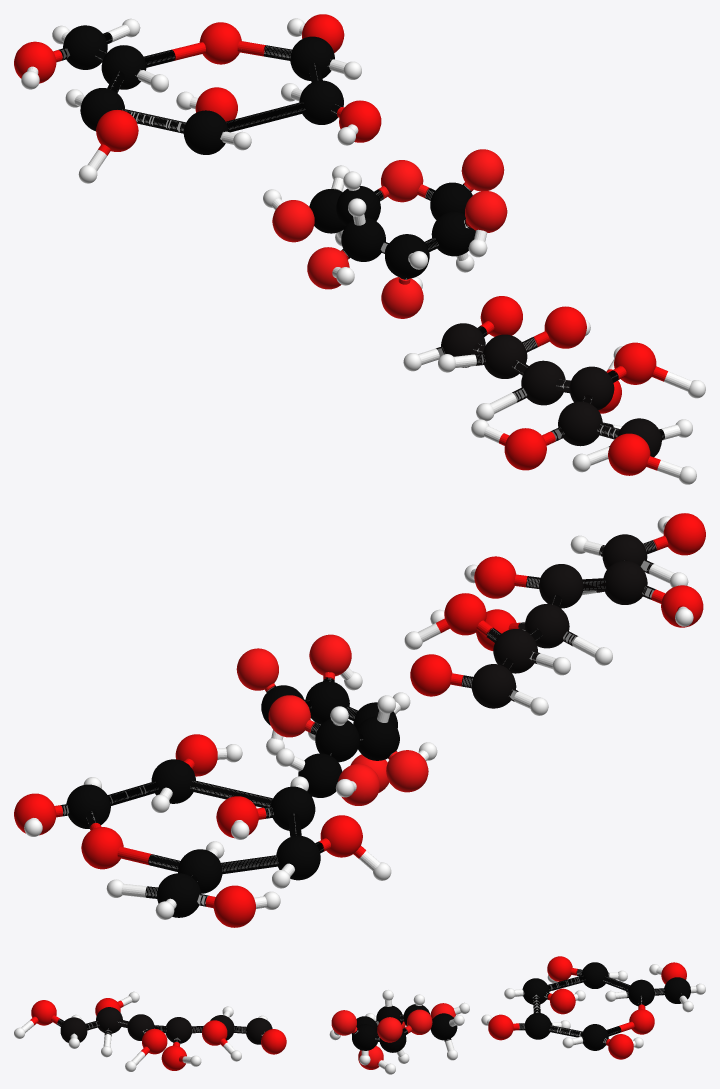
The model's file is glucose_3d_model.glb.
3 views of the same model, one above another, from view 1: azimuth 30°, elevation 25°; view 2: azimuth 150°, elevation 25°; view 3: azimuth 270°, elevation 25° (orthographic). The views are drawn at different scales.
Parts seen in each view (by area): view 1: Object_22, Object_115, Object_64, Object_113, Object_112, Object_25, Object_127, Object_23, Object_31, Object_33, Object_128, Object_124 (+28 smaller); view 2: Object_111, Object_115, Object_114, Object_21, Object_35, Object_80, Object_123, Object_64, Object_33, Object_126, Object_63, Object_128 (+27 smaller); view 3: Object_23, Object_24, Object_113, Object_66, Object_21, Object_62, Object_34, Object_33, Object_81, Object_123, Object_77, Object_78 (+30 smaller).
Part boxes in pixels (box(x1,y1,x2,y2)): Object_22: box(183, 110, 228, 154); Object_115: box(558, 401, 602, 446); Object_64: box(341, 217, 385, 261); Object_113: box(521, 360, 565, 405); Object_112: box(483, 334, 527, 378); Object_25: box(63, 25, 107, 69); Object_127: box(504, 428, 546, 470); Object_23: box(299, 80, 343, 124); Object_31: box(272, 200, 314, 242); Object_33: box(461, 149, 504, 191); Object_128: box(608, 433, 650, 475); Object_124: box(544, 306, 586, 348); Object_111: box(471, 664, 516, 708); Object_115: box(603, 560, 647, 604); Object_114: box(539, 564, 583, 608); Object_21: box(276, 835, 320, 880); Object_35: box(386, 750, 428, 792); Object_80: box(213, 885, 255, 927); Object_123: box(410, 654, 452, 696); Object_64: box(357, 716, 399, 760); Object_33: box(236, 648, 278, 690); Object_126: box(474, 556, 516, 598); Object_63: box(315, 719, 359, 762); Object_128: box(663, 513, 705, 555); Object_23: box(525, 1012, 551, 1039); Object_24: box(581, 1024, 608, 1050); Object_113: box(165, 1017, 192, 1043); Object_66: box(352, 1024, 377, 1050); Object_21: box(581, 962, 608, 988); Object_62: box(430, 1013, 457, 1040); Object_34: box(331, 1010, 356, 1035); Object_33: box(377, 1017, 402, 1042); Object_81: box(608, 1034, 633, 1059); Object_123: box(261, 1029, 286, 1054); Object_77: box(550, 988, 575, 1014); Object_78: box(488, 1014, 513, 1040).
Bounding box in the file's own units: 12.65 × 4.98 × 39.57.
